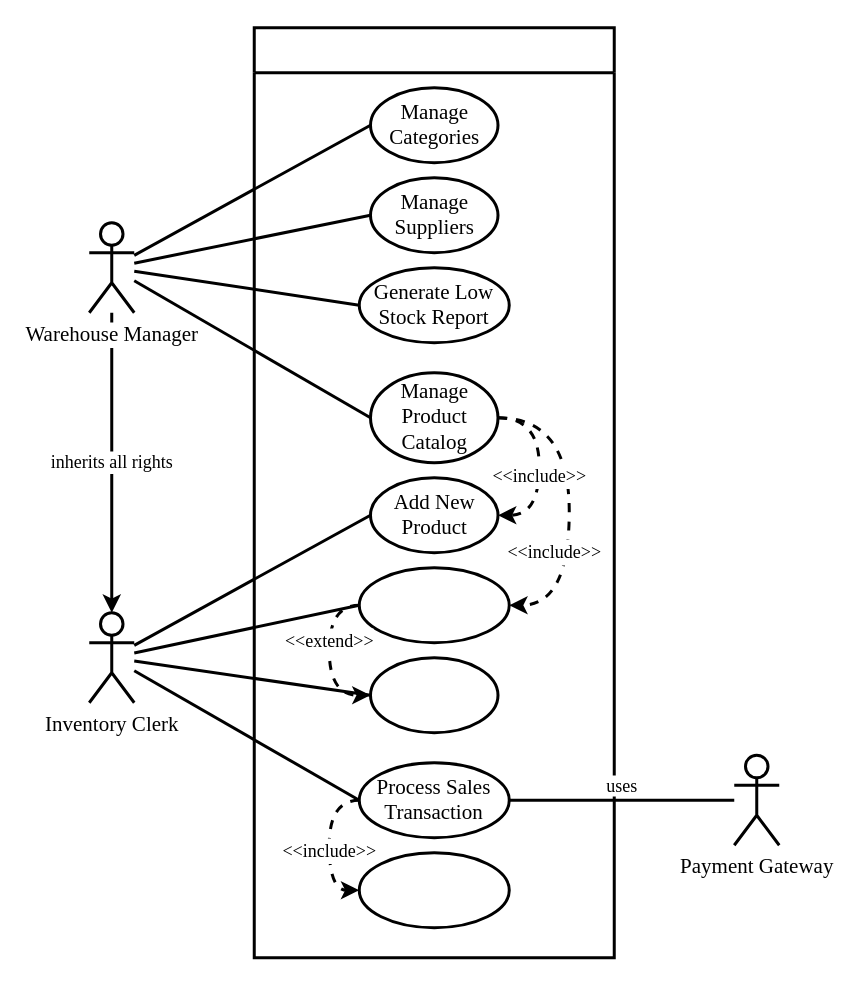
This 860x984 diagram has some shape labels left out. The box of each missing label's shape, as (x1, y1, x2, y2) in pixels:
Edit Product Details: (357, 566, 510, 644)
InventorySystem: (252, 26, 615, 958)
Record Audit Log: (357, 850, 510, 928)
Search Inventory: (368, 656, 499, 734)
